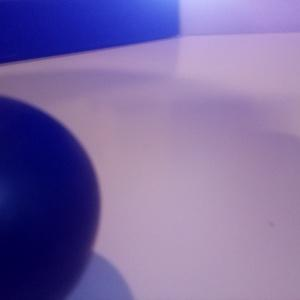dead_ball: (1, 94, 101, 300)
